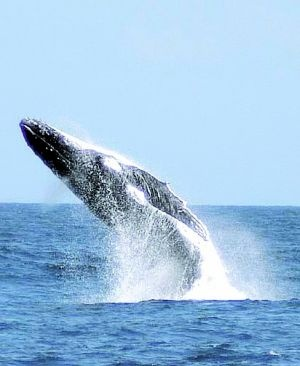fish: (17, 113, 228, 301)
